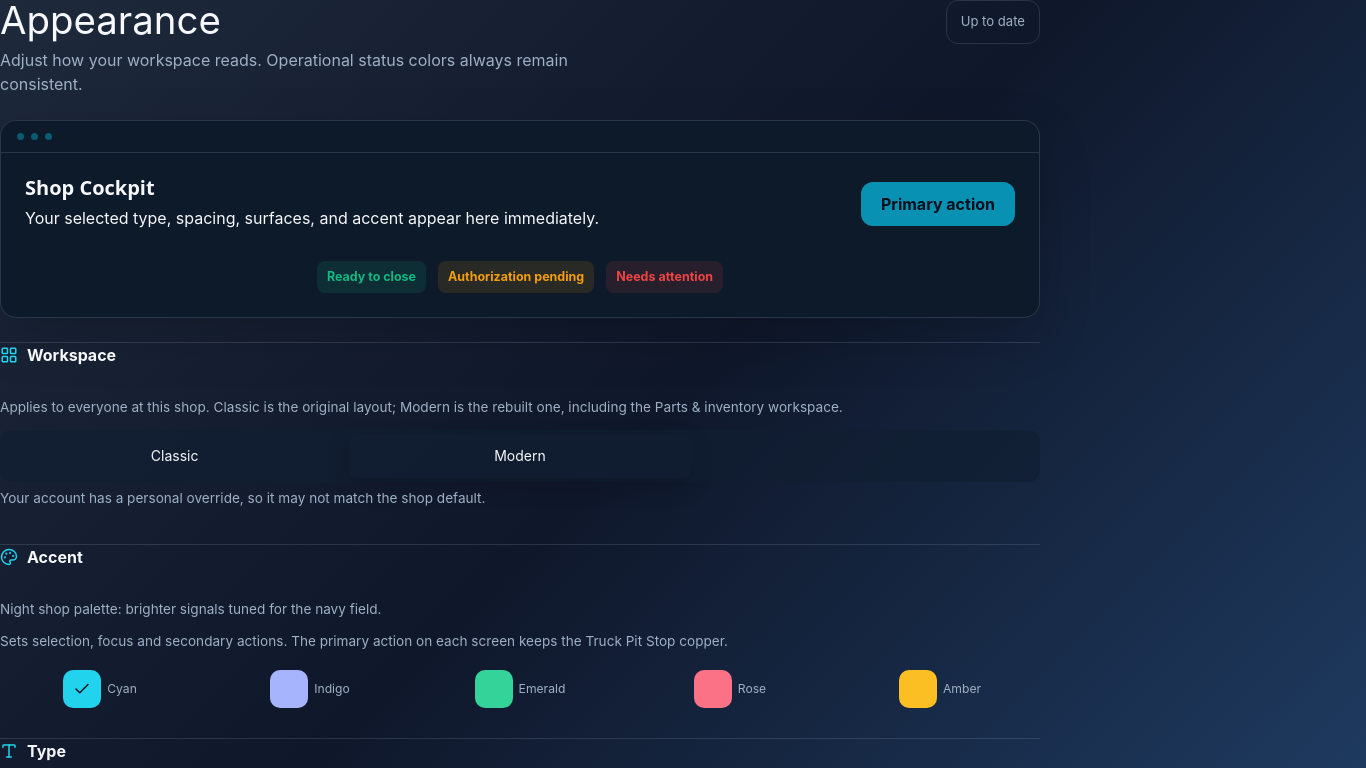
requires confirmation before resetting saved appearance
The image size is (1366, 768).
Click the button "Rose" at {"x": 730, "y": 689}, box [630, 664, 830, 714]
(page scrolled)
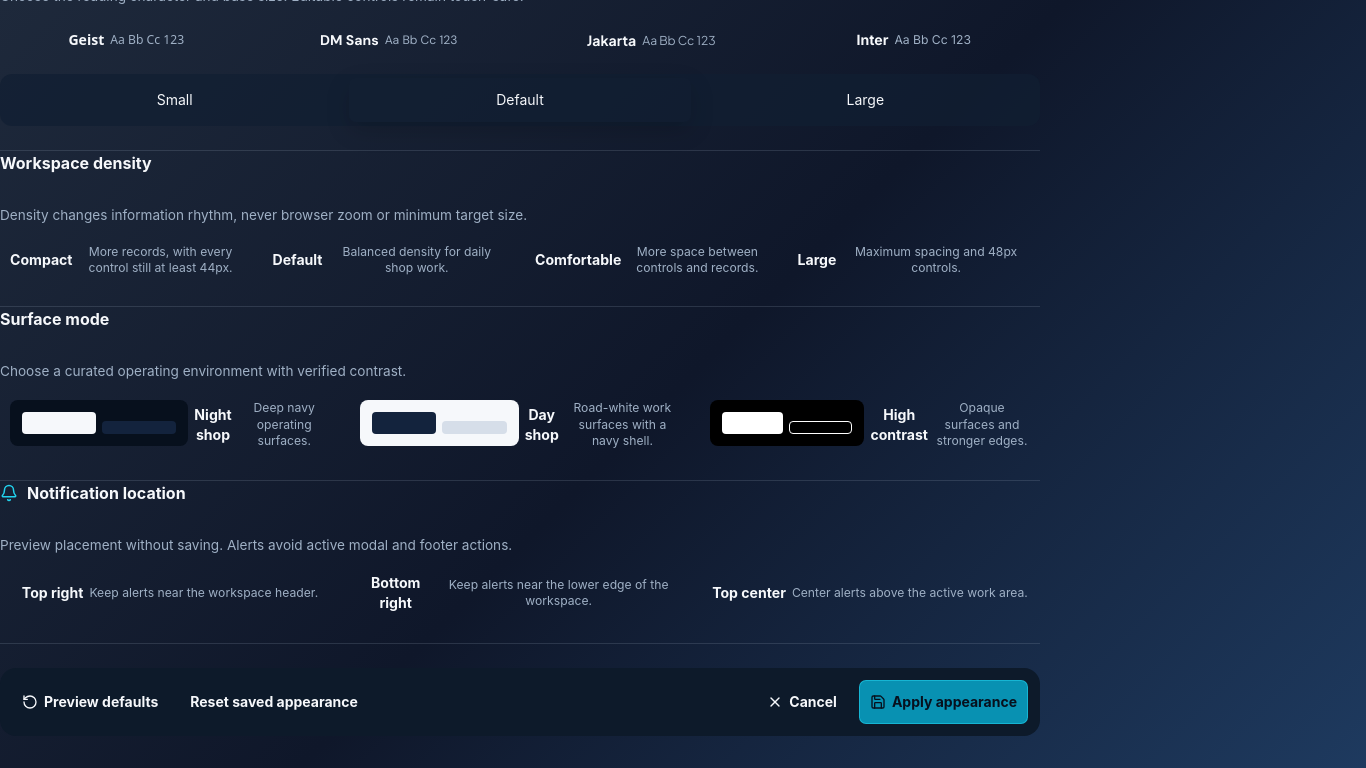
Click the button "Reset saved appearance" at {"x": 274, "y": 702}, box [180, 680, 368, 724]
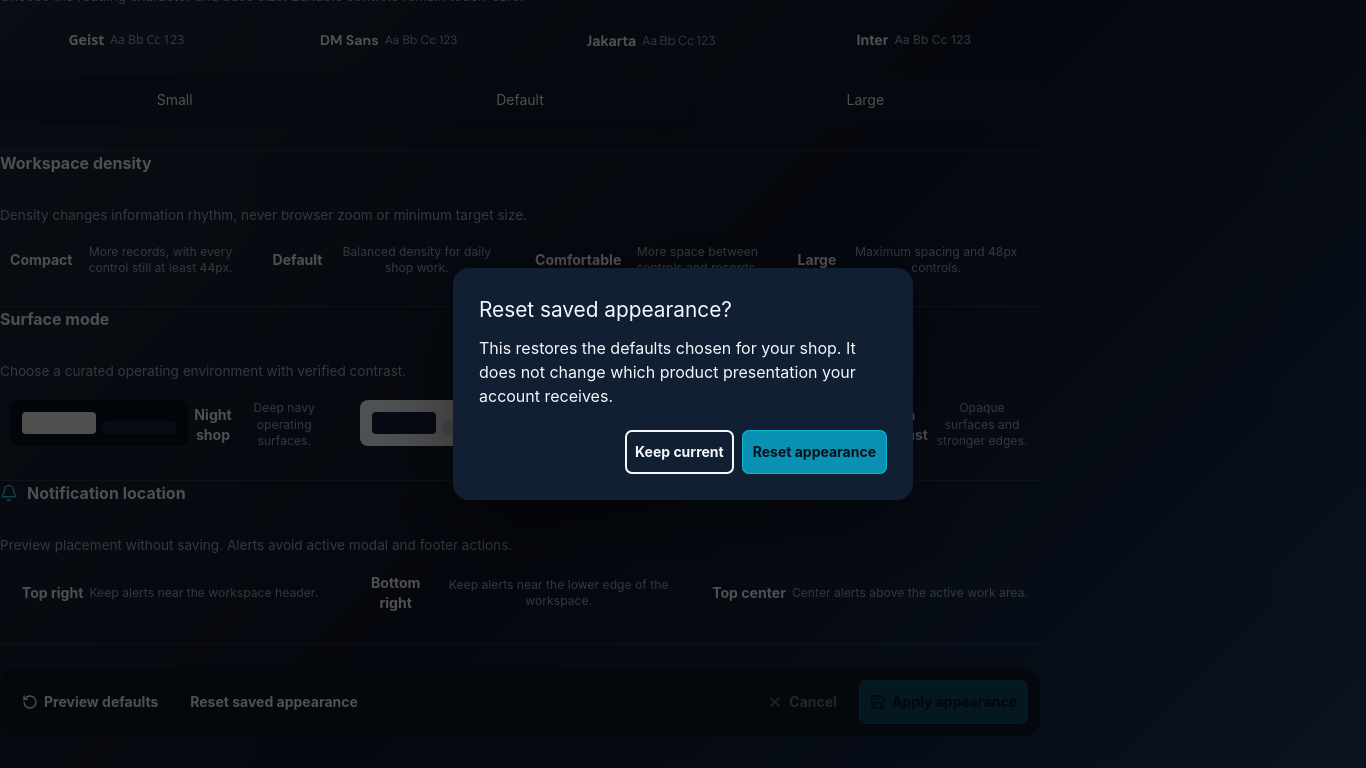
Expected: the dialog "Reset saved appearance?" is shown
Click the button "Keep current" at {"x": 679, "y": 452}, box [625, 430, 734, 474]
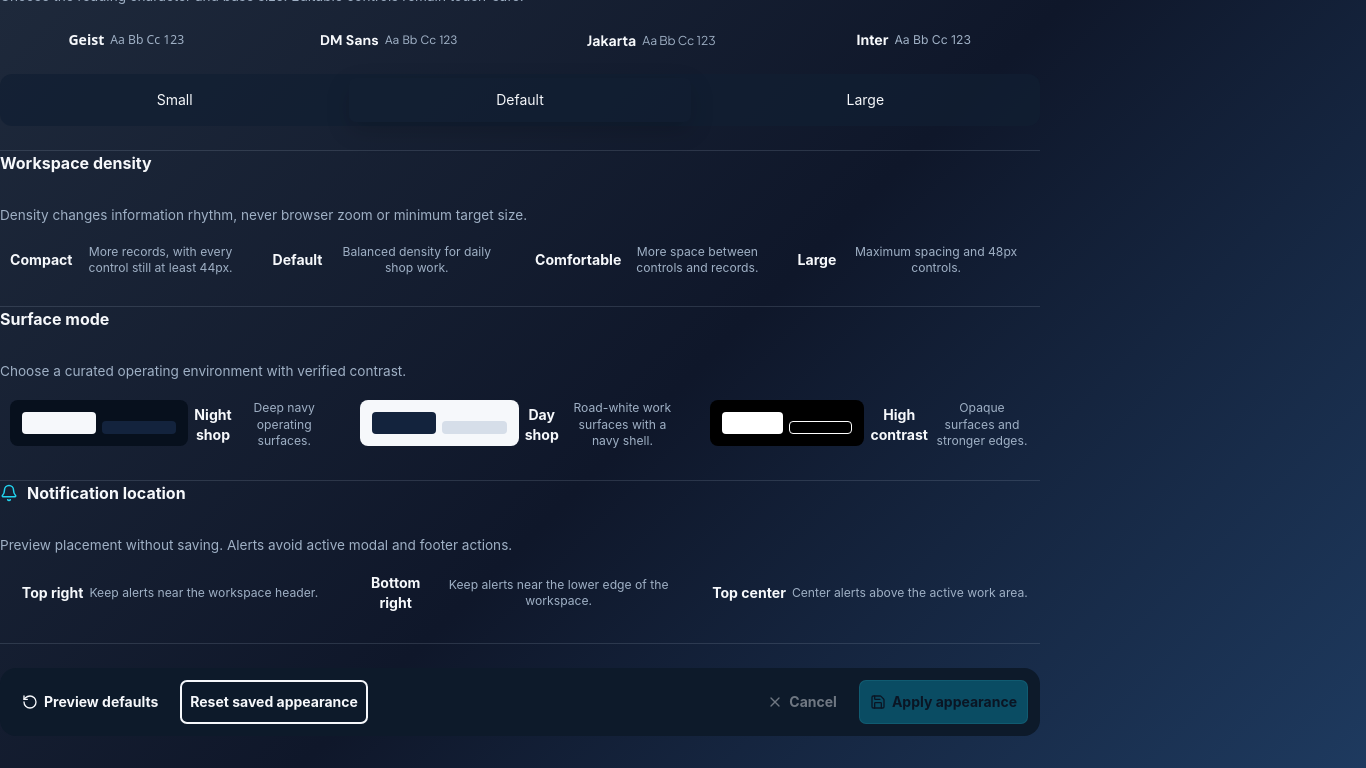
Expected: the dialog is gone
